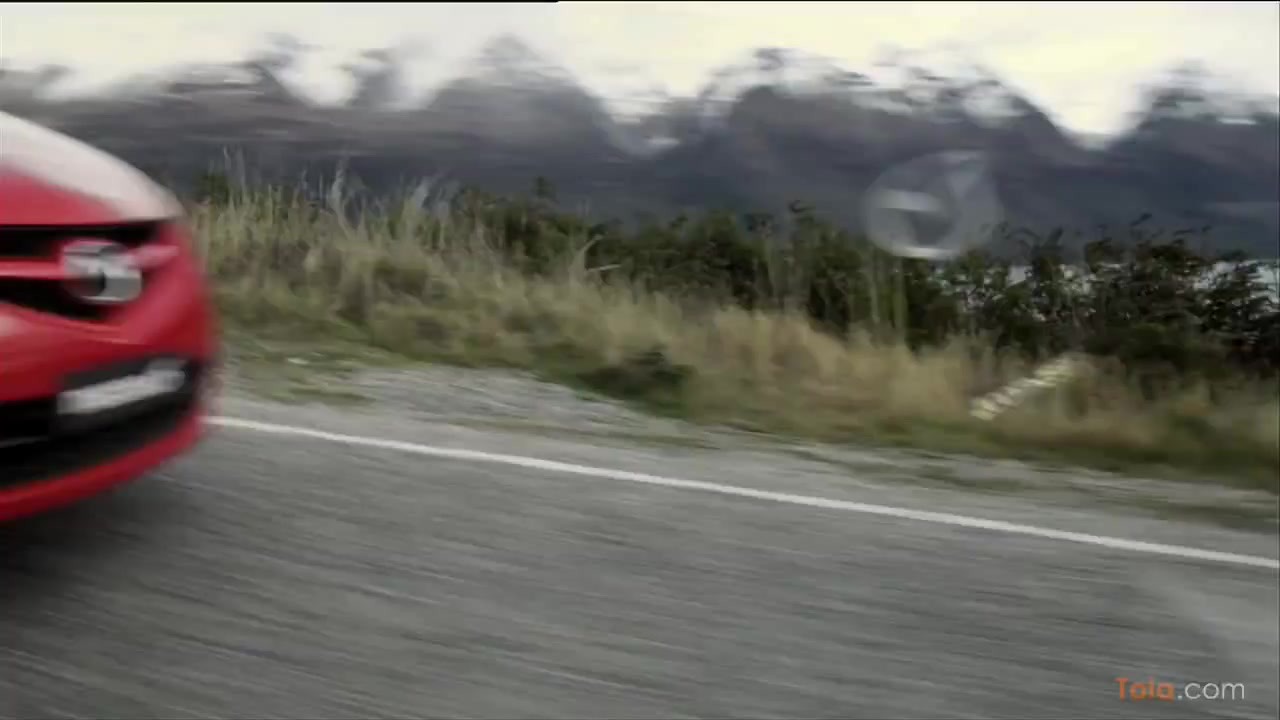car: (2, 101, 227, 540)
